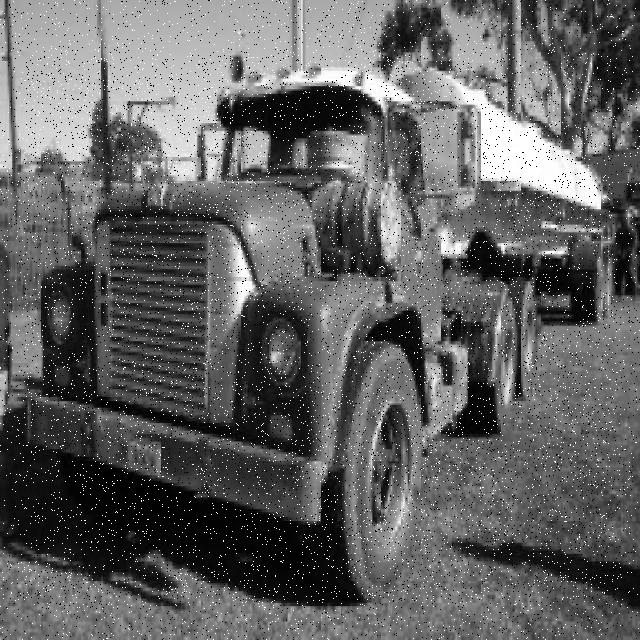Box Truck: (24, 54, 617, 606)
